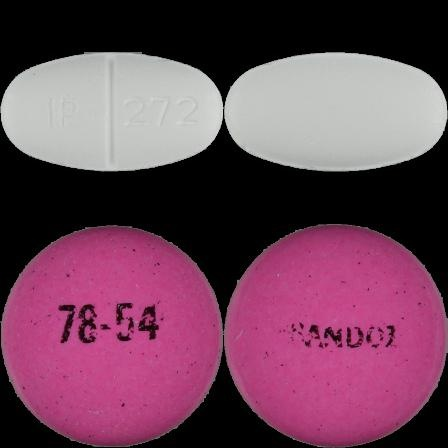12634-177: (0, 0, 224, 224)
